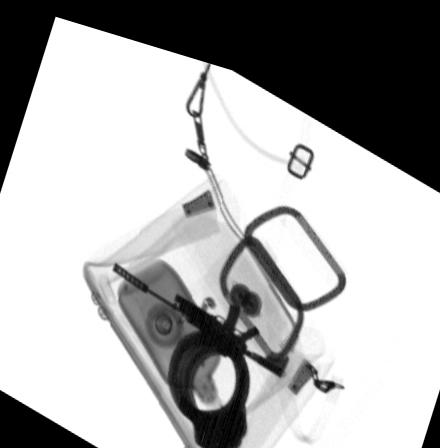Gun: (113, 250, 293, 363)
HandCuffs: (165, 312, 252, 448)
